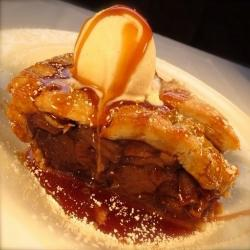apple_pie: (13, 56, 236, 228)
icecream: (66, 5, 170, 108)
